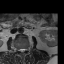CCS_stenosis: (21, 47, 23, 54)
LFS_normal: (25, 46, 27, 52)
LLS_normal: (23, 47, 25, 53)
RFS_stenosis: (17, 47, 19, 53)
RLS_normal: (19, 47, 21, 53)
